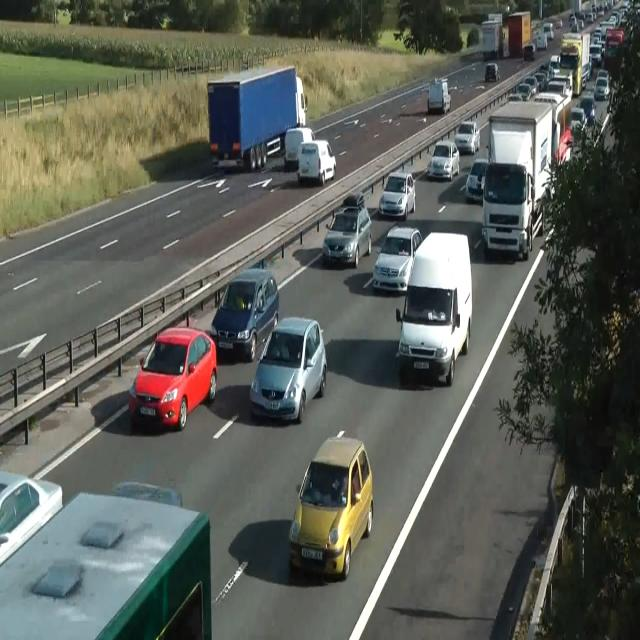bus: (0, 470, 63, 566), (372, 224, 422, 293), (110, 481, 182, 508), (378, 170, 416, 220), (426, 138, 460, 180), (465, 158, 488, 203), (332, 190, 364, 218), (454, 120, 480, 154), (576, 95, 596, 127), (570, 106, 588, 132), (593, 76, 610, 100), (342, 190, 364, 207), (484, 63, 500, 83), (522, 42, 536, 60), (517, 82, 531, 100), (543, 22, 553, 39), (537, 33, 547, 50), (556, 18, 562, 28)
jeep: (288, 430, 374, 580), (394, 230, 472, 386), (128, 325, 217, 431), (249, 316, 327, 423), (210, 266, 279, 362), (481, 161, 534, 260), (322, 202, 372, 268), (296, 138, 336, 186), (283, 125, 315, 170)
minibus: (0, 474, 212, 639), (482, 90, 572, 260), (206, 64, 308, 172), (548, 32, 592, 96), (481, 10, 533, 60), (427, 77, 451, 114), (481, 20, 502, 60)
